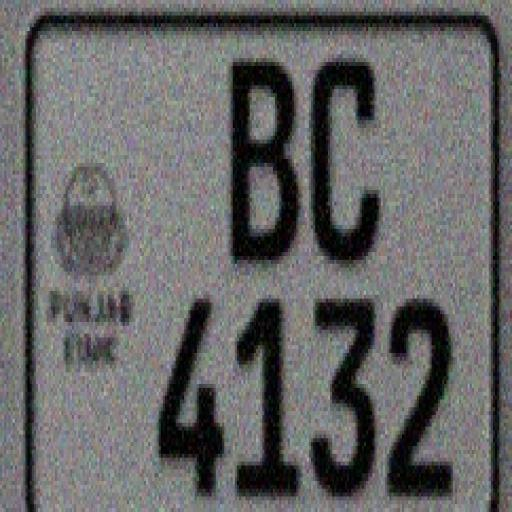1: (233, 303, 302, 493)
2: (388, 300, 456, 483)
3: (312, 299, 378, 490)
4: (164, 301, 227, 501)
B: (232, 64, 304, 264)
C: (309, 60, 391, 274)
